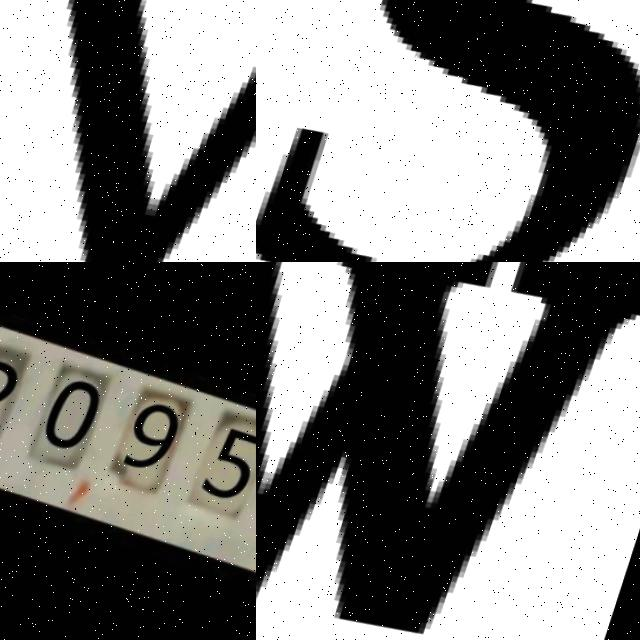0: (24, 362, 121, 480)
2: (0, 336, 39, 459)
5: (183, 414, 256, 533)
9: (104, 386, 199, 505)
S: (256, 0, 640, 262)
V: (0, 0, 256, 262)
W: (256, 262, 640, 640)
